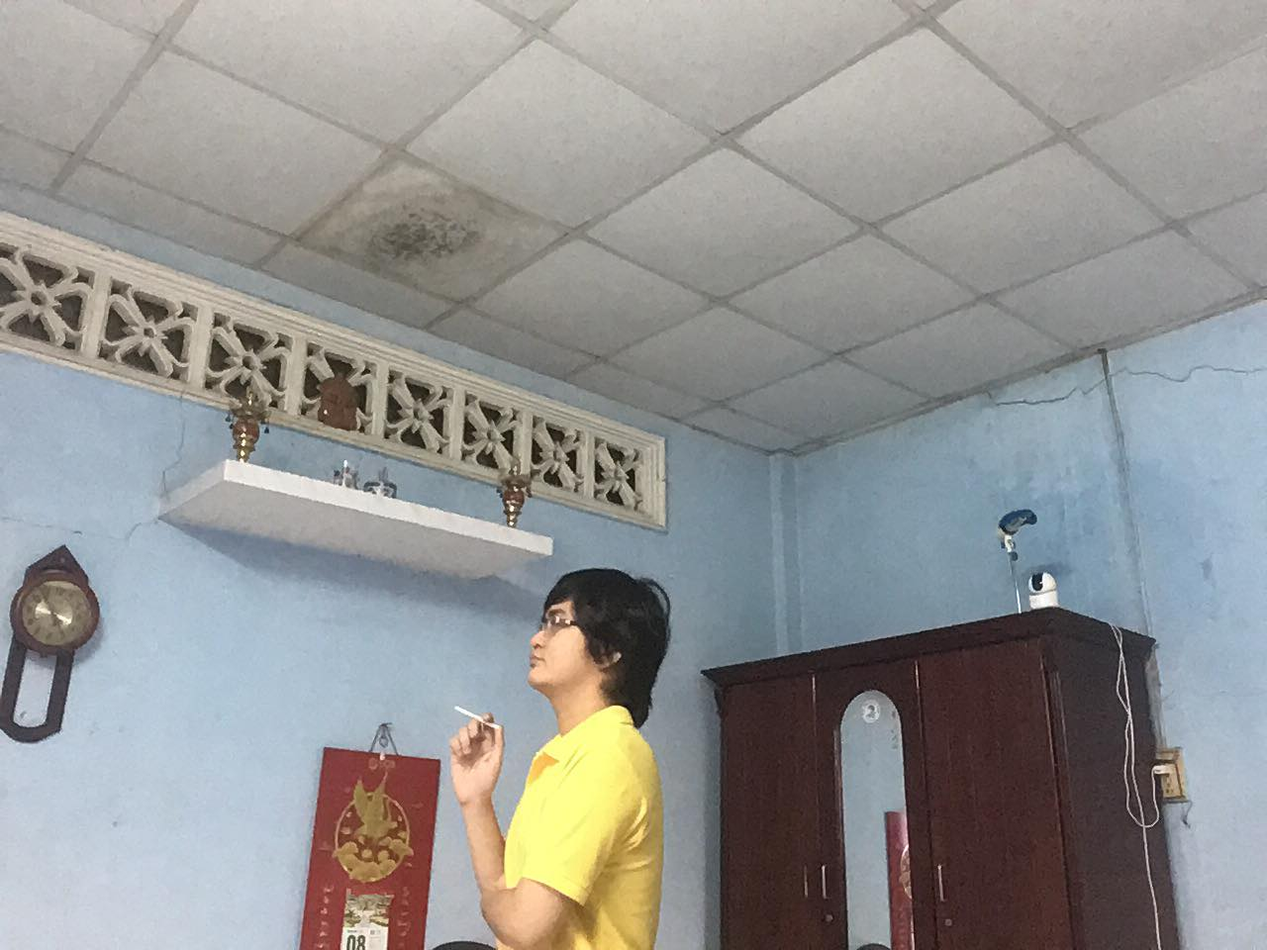cigarette: (451, 703, 481, 721)
person: (448, 565, 676, 949)
